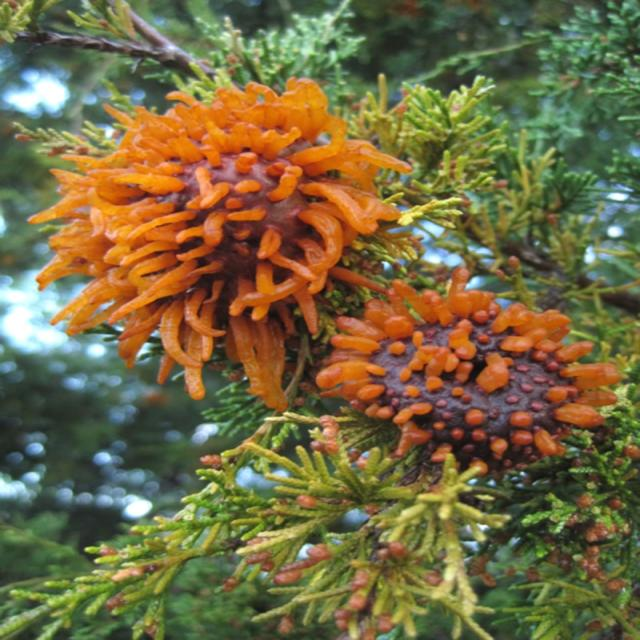Gymnosporangium_Rusts: (4, 73, 634, 637), (21, 75, 414, 411), (312, 266, 620, 480)
